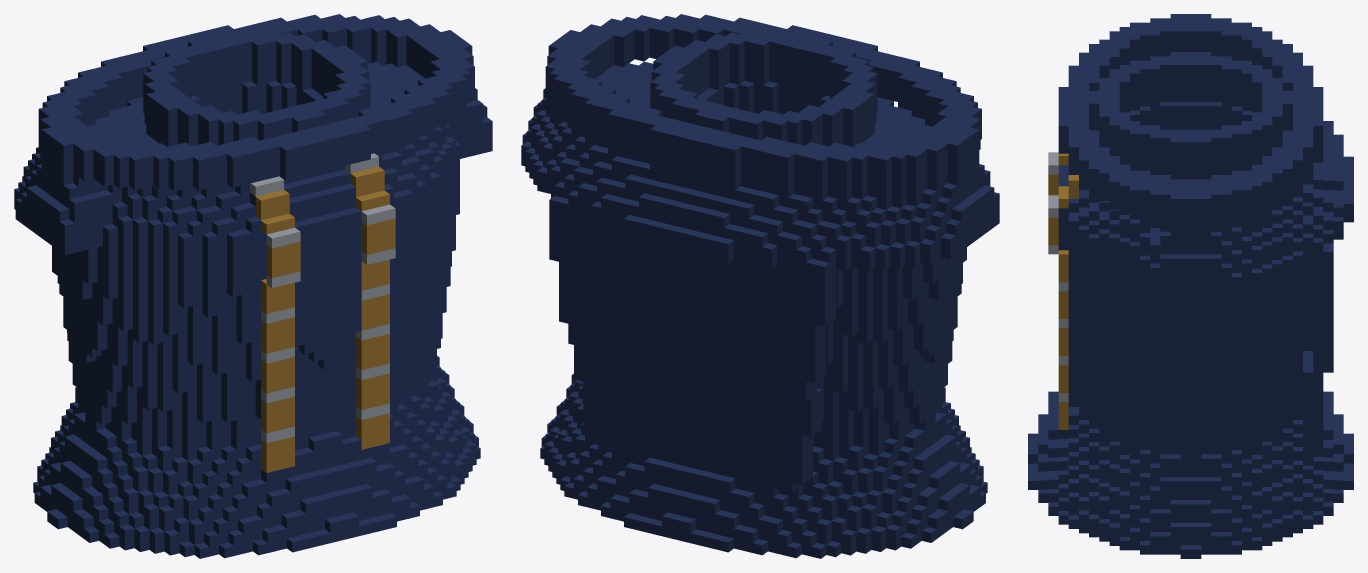
Rendered from cloth_rare_chest.glb.
3 views of the same model, side by side, from view 1: azimuth 30°, elevation 25°; view 2: azimuth 150°, elevation 25°; view 3: azimuth 270°, elevation 25° (orthographic). The views are drawn at different scales.
Visible parts, largest first — view 1: cloth_rare_chest; view 2: cloth_rare_chest; view 3: cloth_rare_chest.
Part boxes in pixels (left/top/right/bottom): cloth_rare_chest: left=14, top=14, right=492, bottom=558; cloth_rare_chest: left=521, top=14, right=999, bottom=558; cloth_rare_chest: left=1028, top=14, right=1353, bottom=558.
Bounding box in the file's own units: 0.54 × 0.48 × 0.384.
